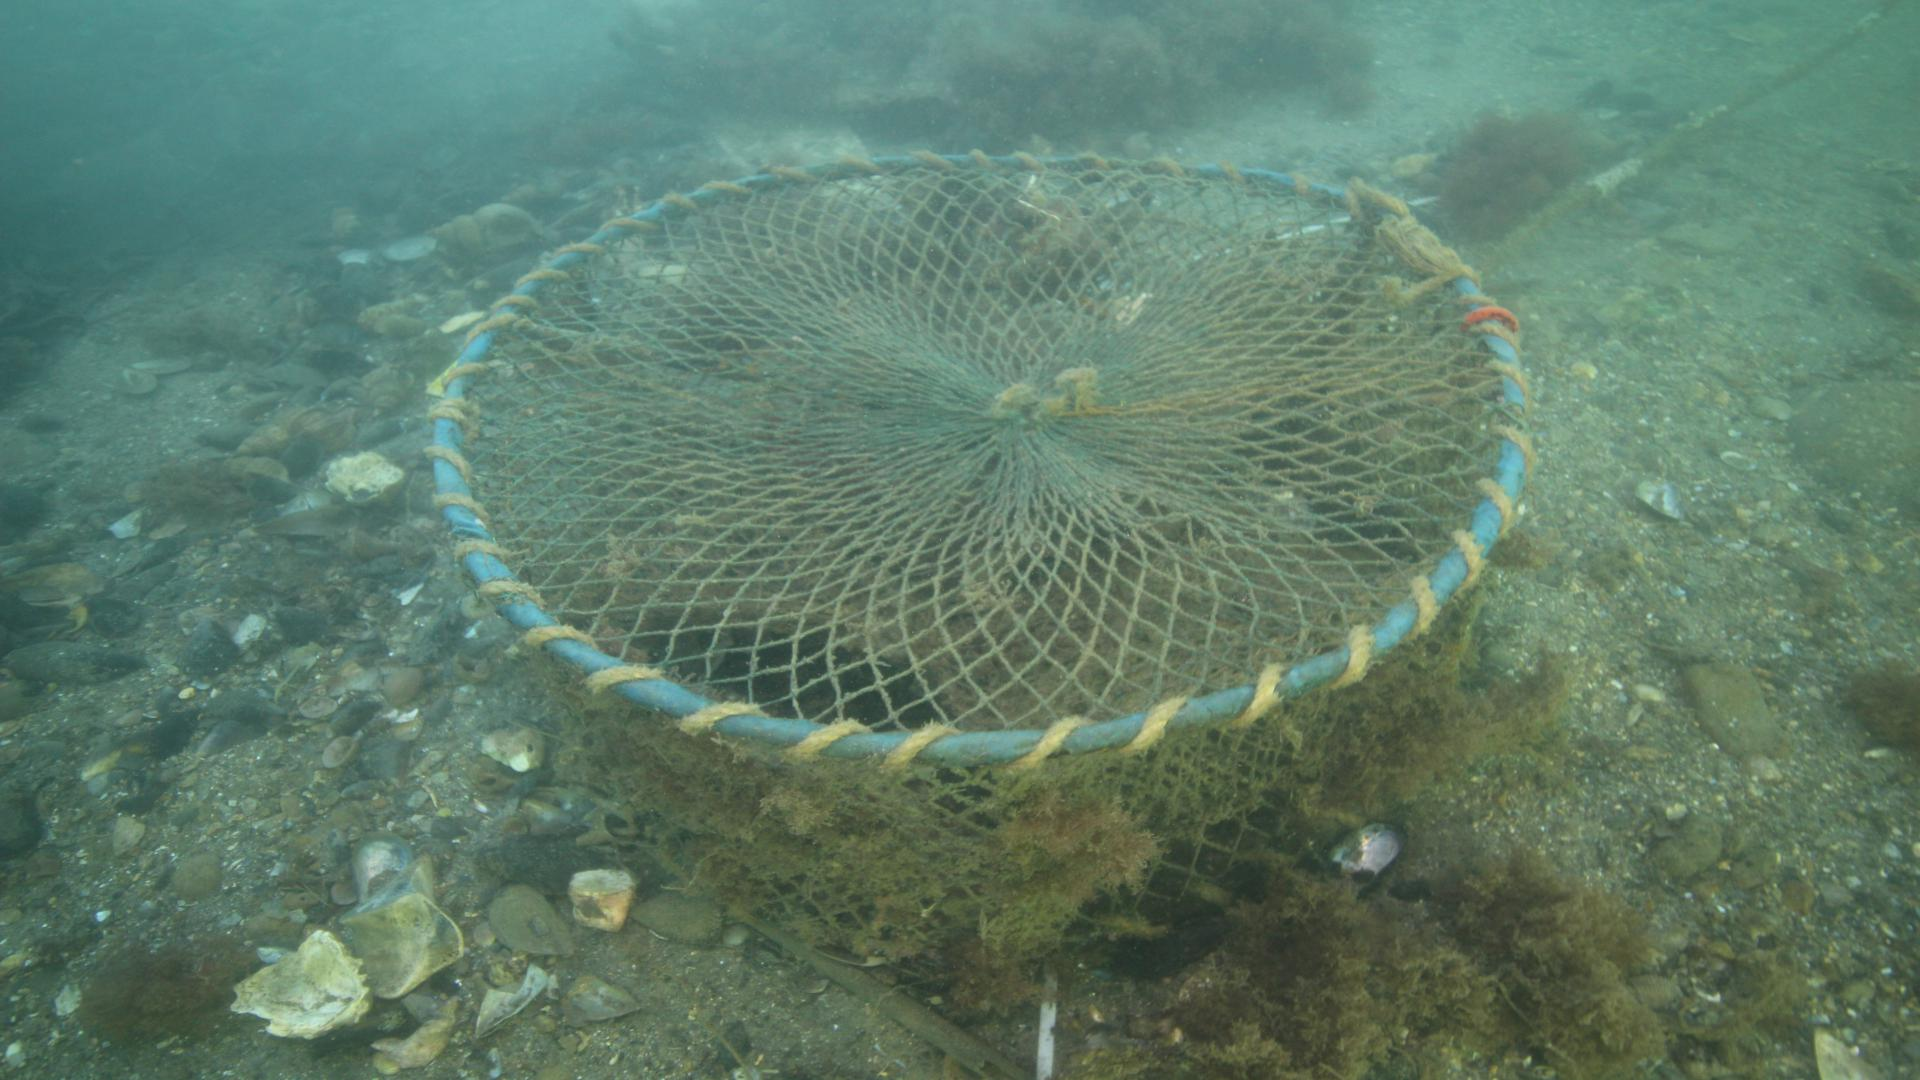circular fish trap: (419, 146, 1534, 956)
